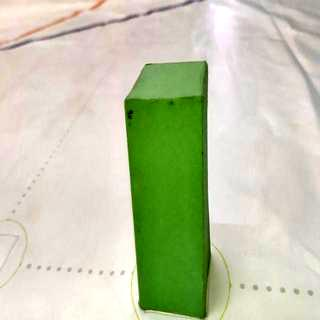greenbox: (124, 61, 208, 320)
